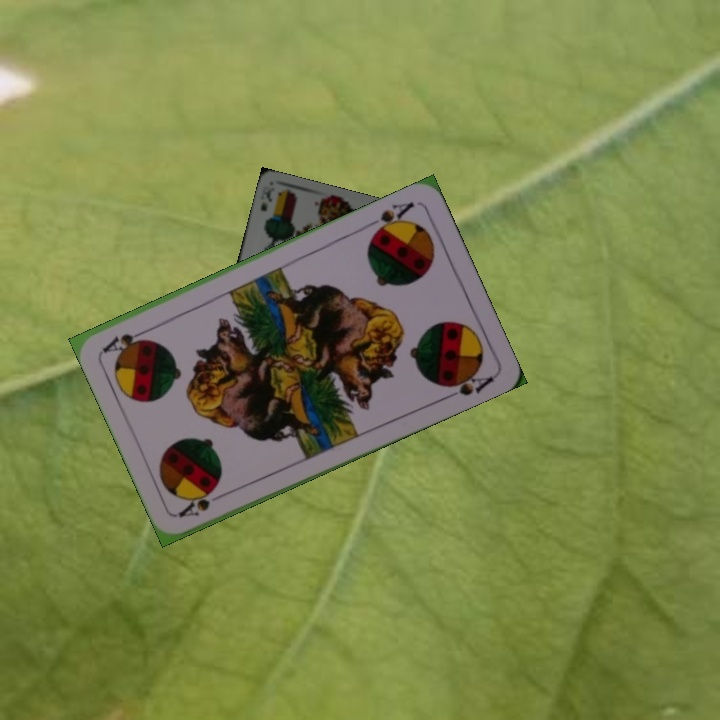EK: (257, 185, 274, 214)
SA: (362, 197, 417, 239), (174, 485, 230, 521)
